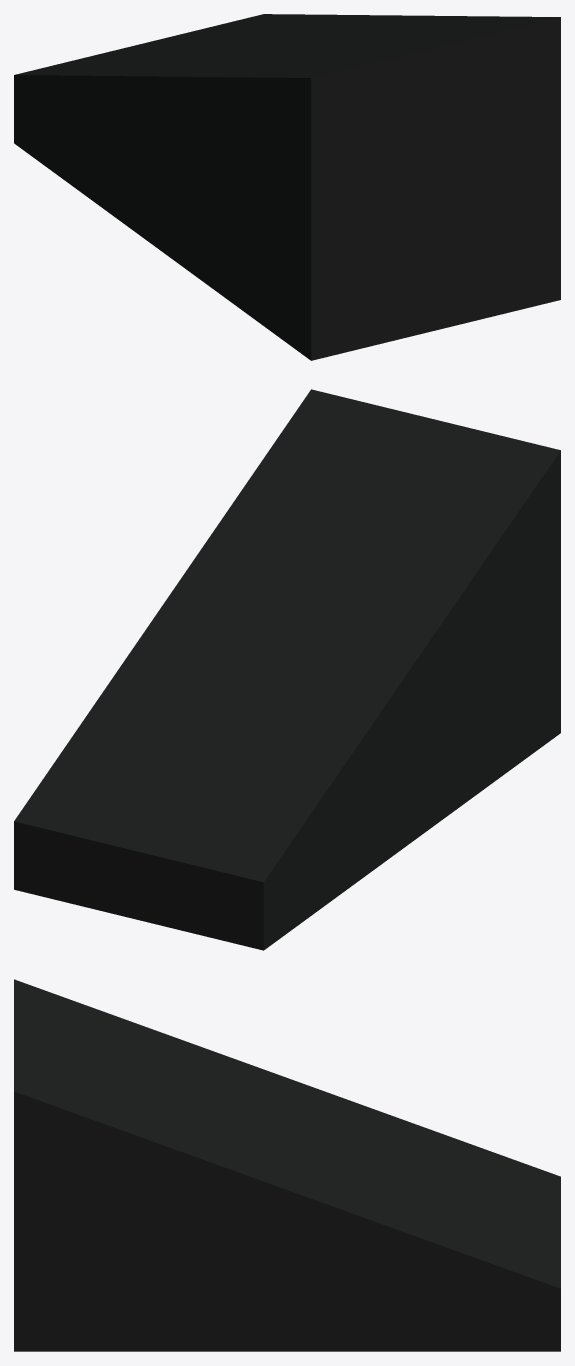
File: AMB_ST_KAIDAN_YANE.glb
The picture shows the model from 3 angles, top to bottom: view 1: azimuth 30°, elevation 25°; view 2: azimuth 150°, elevation 25°; view 3: azimuth 270°, elevation 25°; orthographic projection. The views are drawn at different scales.
Visible parts, largest first — view 1: BASE; view 2: BASE; view 3: BASE.
Boxes of the visible parts, <box> form: BASE: <box>14,14,560,360</box>; BASE: <box>14,389,560,950</box>; BASE: <box>14,979,560,1351</box>.
Bounding box in the file's own units: 19.13 × 20.7 × 39.42.
Materials: 1 (1 with a texture image).
